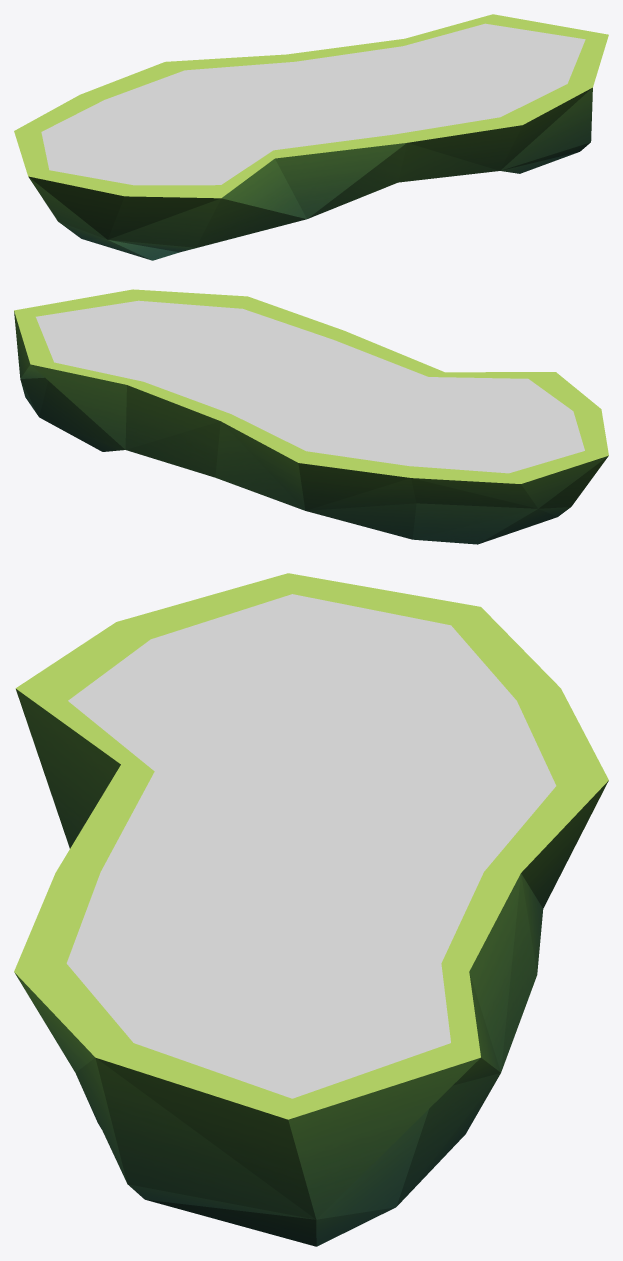
Rendered from MOD_Laag.fbx.
3 renders of one model, top to bottom at view 1: azimuth 30°, elevation 25°; view 2: azimuth 150°, elevation 25°; view 3: azimuth 270°, elevation 25°, orthographic. The views are drawn at different scales.
Parts seen in each view (by area): view 1: MOD_PlatformV2_laag; view 2: MOD_PlatformV2_laag; view 3: MOD_PlatformV2_laag.
Boxes of the visible parts, <box> form: MOD_PlatformV2_laag: <box>14,14,608,260</box>; MOD_PlatformV2_laag: <box>14,289,608,544</box>; MOD_PlatformV2_laag: <box>14,573,608,1246</box>.
Bounding box in the file's own units: 4.74 × 0.7042 × 2.18.
3 materials, 1 textured.
